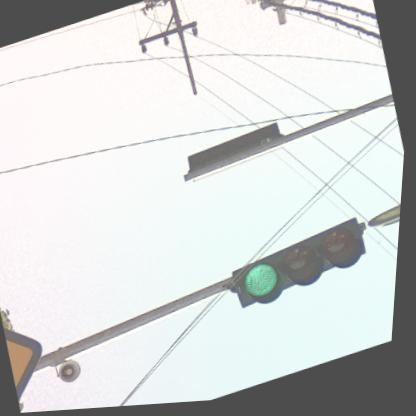green: (223, 215, 377, 319)
